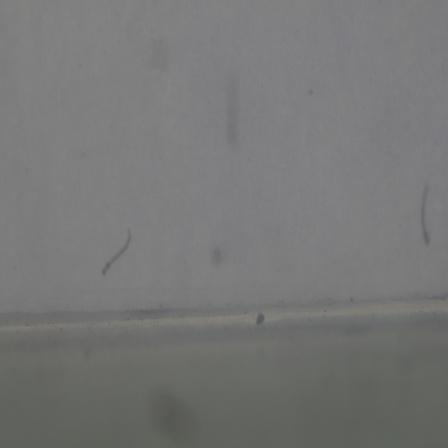Jentik-Nyamuk: (100, 224, 137, 278)
